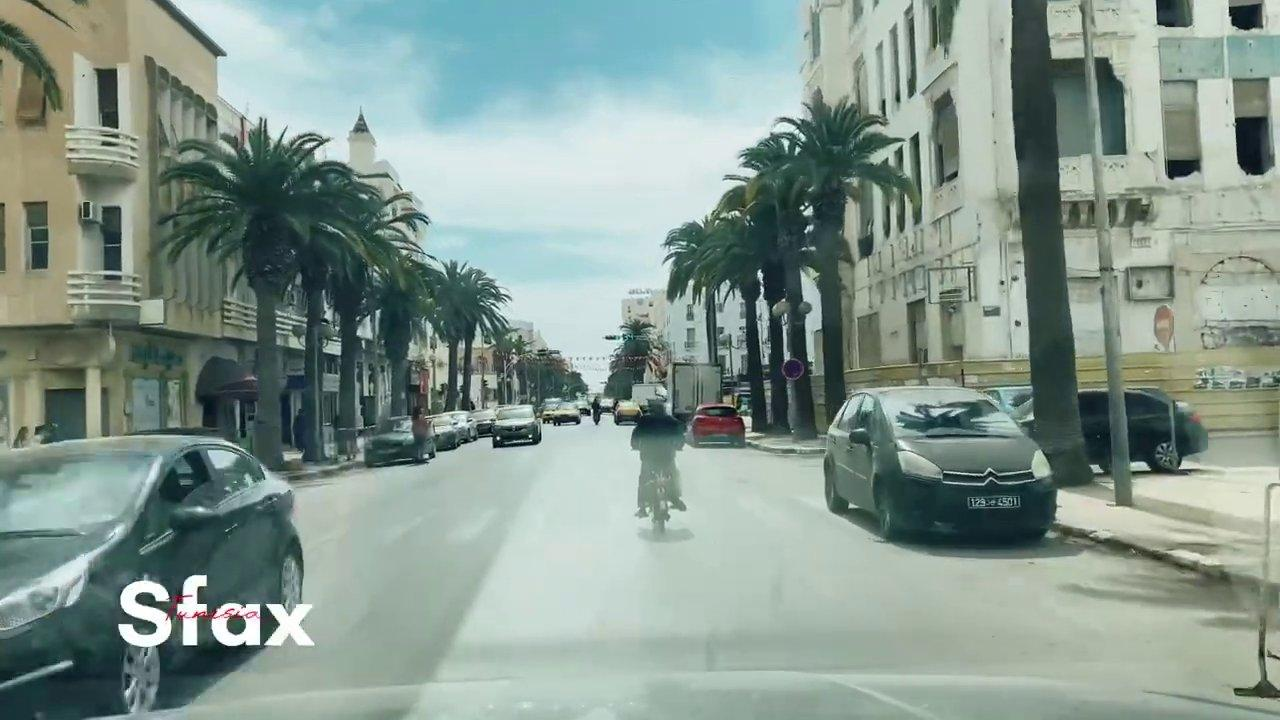no entry: (1151, 303, 1178, 349)
